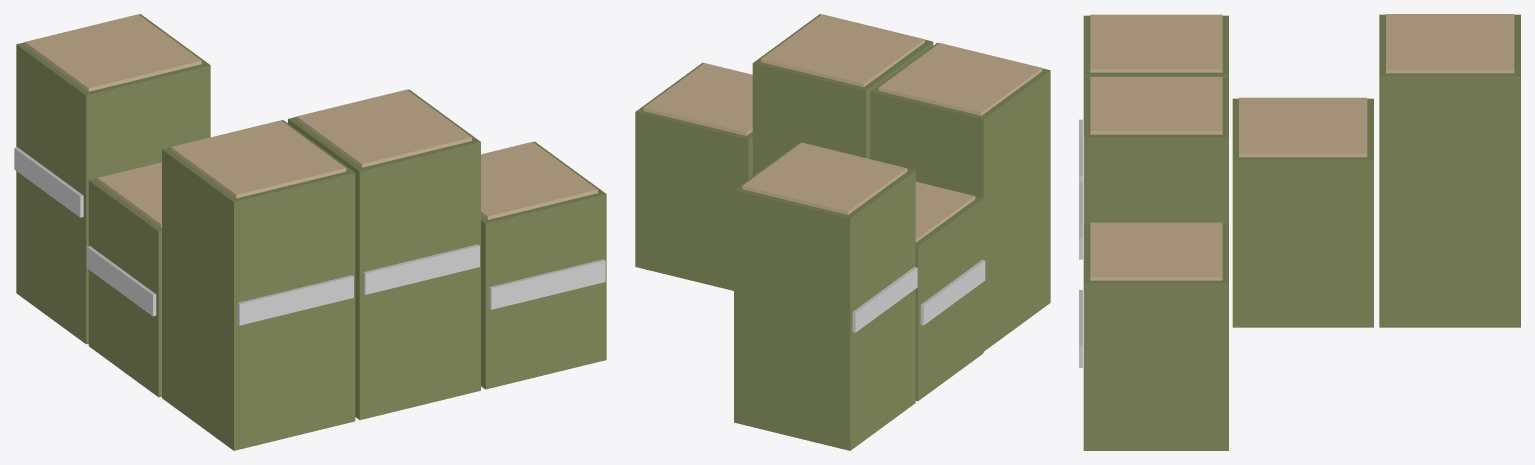
The model's file is SM_HescoEsquina_v2_Escalonado_e0_Sano_LOD1.fbx.
3 renders of one model, left to right at view 1: azimuth 30°, elevation 25°; view 2: azimuth 150°, elevation 25°; view 3: azimuth 270°, elevation 25°, orthographic. The views are drawn at different scales.
Visible parts, largest first — view 1: SM_hesco_piezas_v8_LOD1; view 2: SM_hesco_piezas_v8_LOD1; view 3: SM_hesco_piezas_v8_LOD1.
Boxes of the visible parts, bbox=[...] form: SM_hesco_piezas_v8_LOD1: bbox=[14, 14, 606, 450]; SM_hesco_piezas_v8_LOD1: bbox=[635, 14, 1050, 450]; SM_hesco_piezas_v8_LOD1: bbox=[1079, 14, 1520, 450].
Size of the model in its own units: 3.34 by 2.13 by 3.34.
